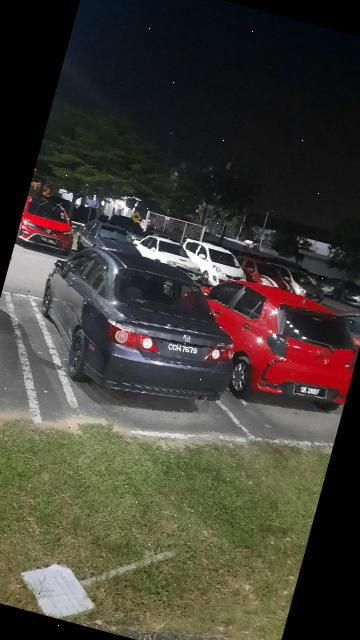License_Plate: (145, 330, 219, 371), (287, 379, 335, 407)
car: (22, 231, 258, 421), (172, 265, 360, 427)
